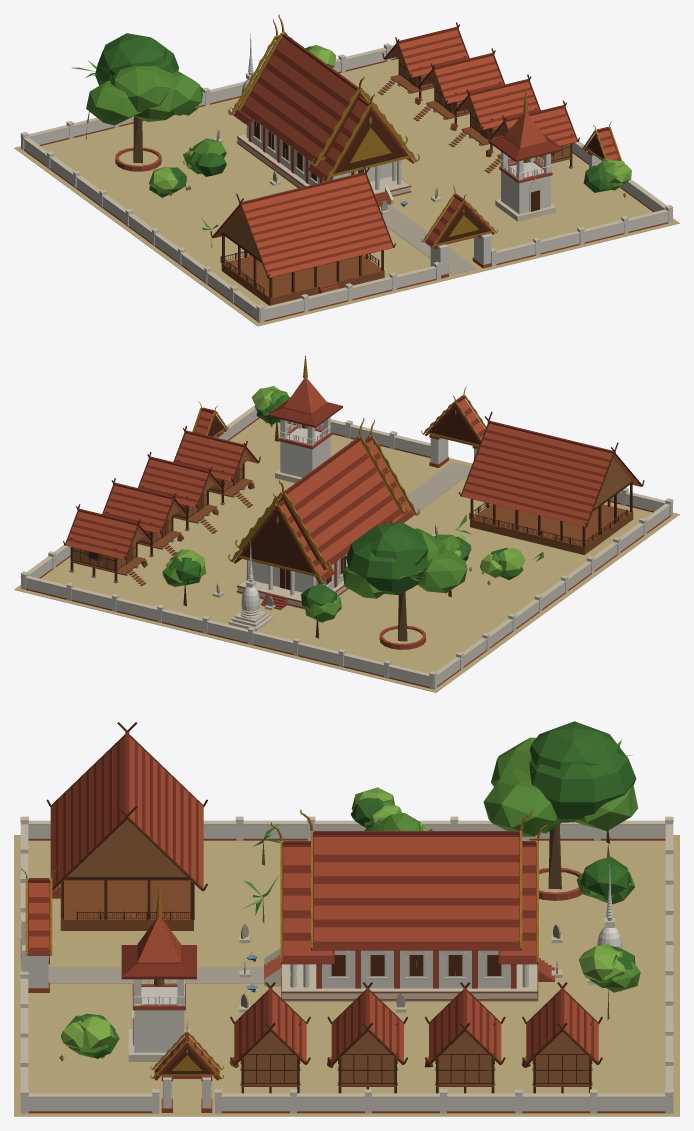
The model's file is temple_2.glb.
The picture shows the model from 3 angles, top to bottom: view 1: azimuth 30°, elevation 25°; view 2: azimuth 150°, elevation 25°; view 3: azimuth 270°, elevation 25°; orthographic projection. The views are drawn at different scales.
Parts seen in each view (by area): view 1: body; view 2: body; view 3: body.
Boxes of the visible parts, x1,y1,x2,y2 form: body: (14,14,679,326); body: (14,355,679,692); body: (14,721,679,1116).
Size of the model in its own units: 47.9 by 13.25 by 47.9.
